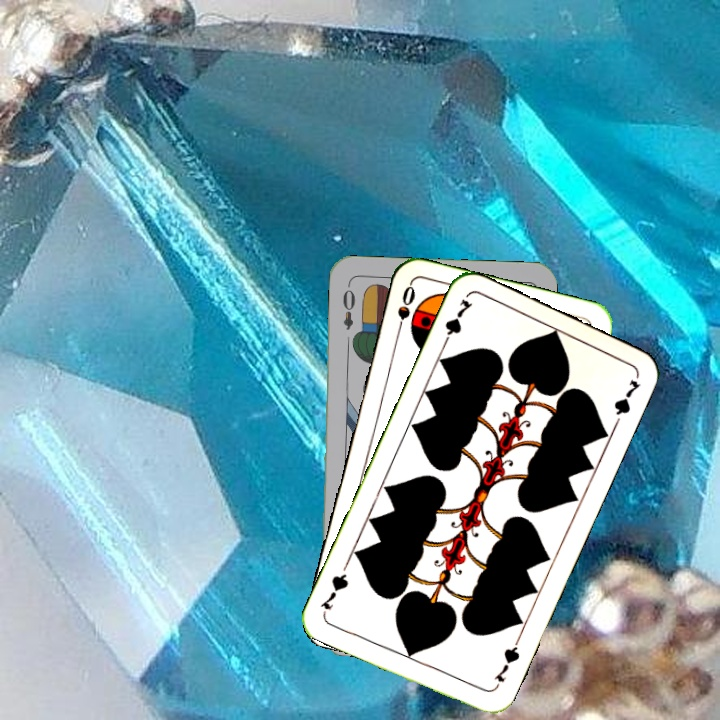EO: (338, 280, 358, 332)
G7: (438, 295, 476, 350), (489, 636, 523, 692)
SO: (392, 281, 418, 340)
